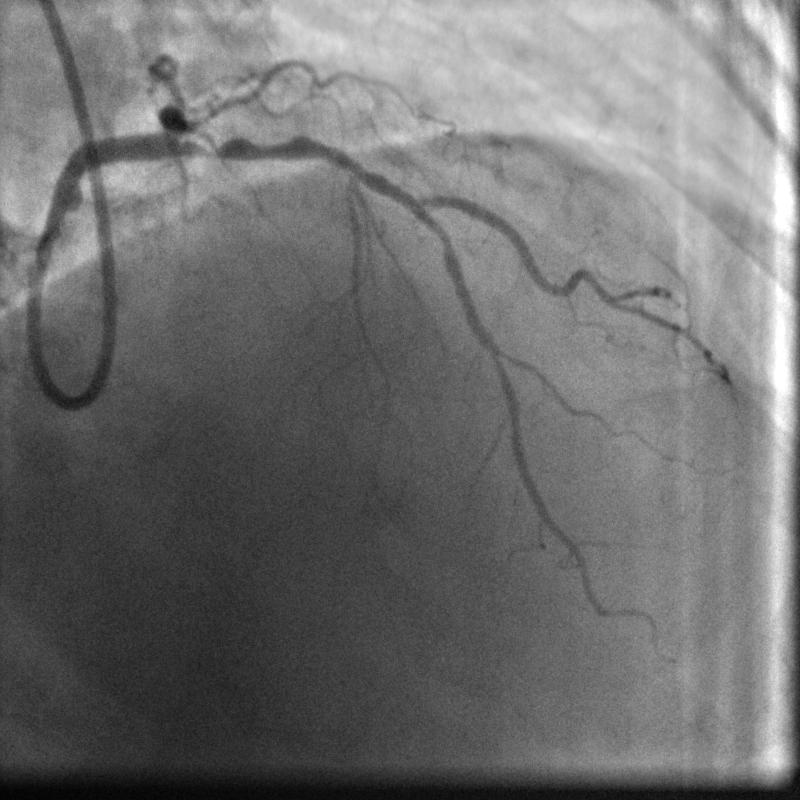Stenosis: (184, 128, 296, 162)
